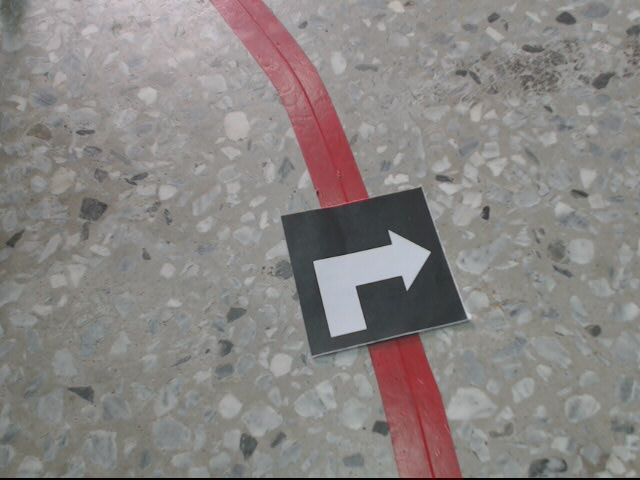right: (280, 184, 472, 359)
